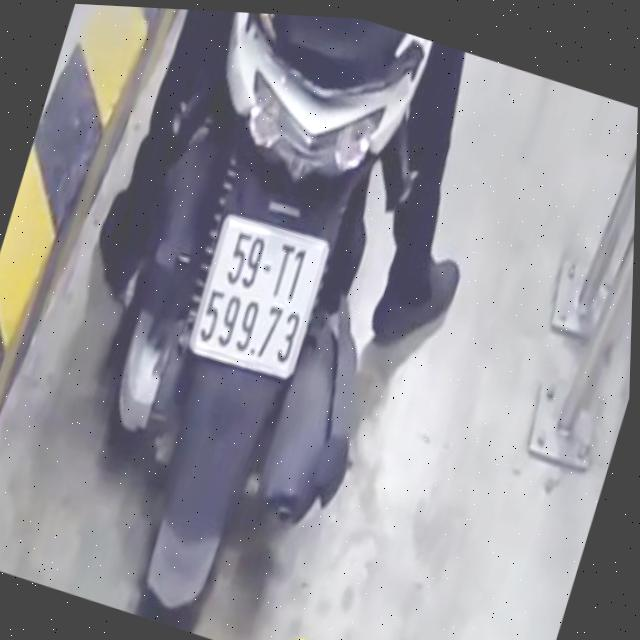motorcycle: (25, 2, 473, 640)
plate: (181, 207, 336, 389)
